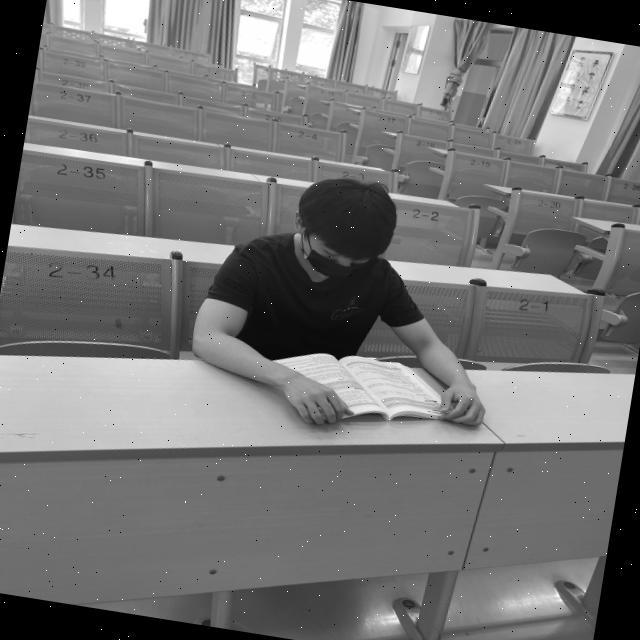study: (181, 160, 518, 449)
